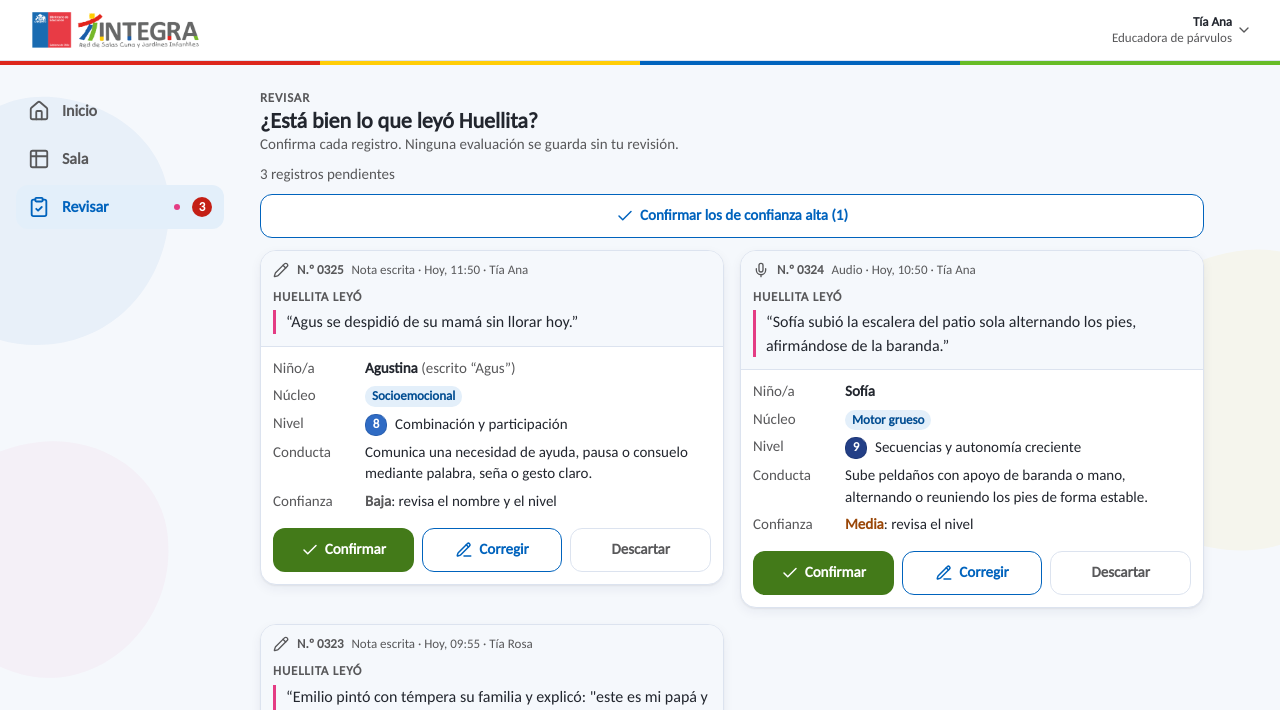
Scenario: Revisar › acepta todas las seguras de una vez
The width and height of the screenshot is (1280, 710).
What coordinates should you click on to do the following:
click the button "Confirmar los de confianza alta (1)"
I would click on:
 (732, 216)
Its box is [260,194,1204,238].
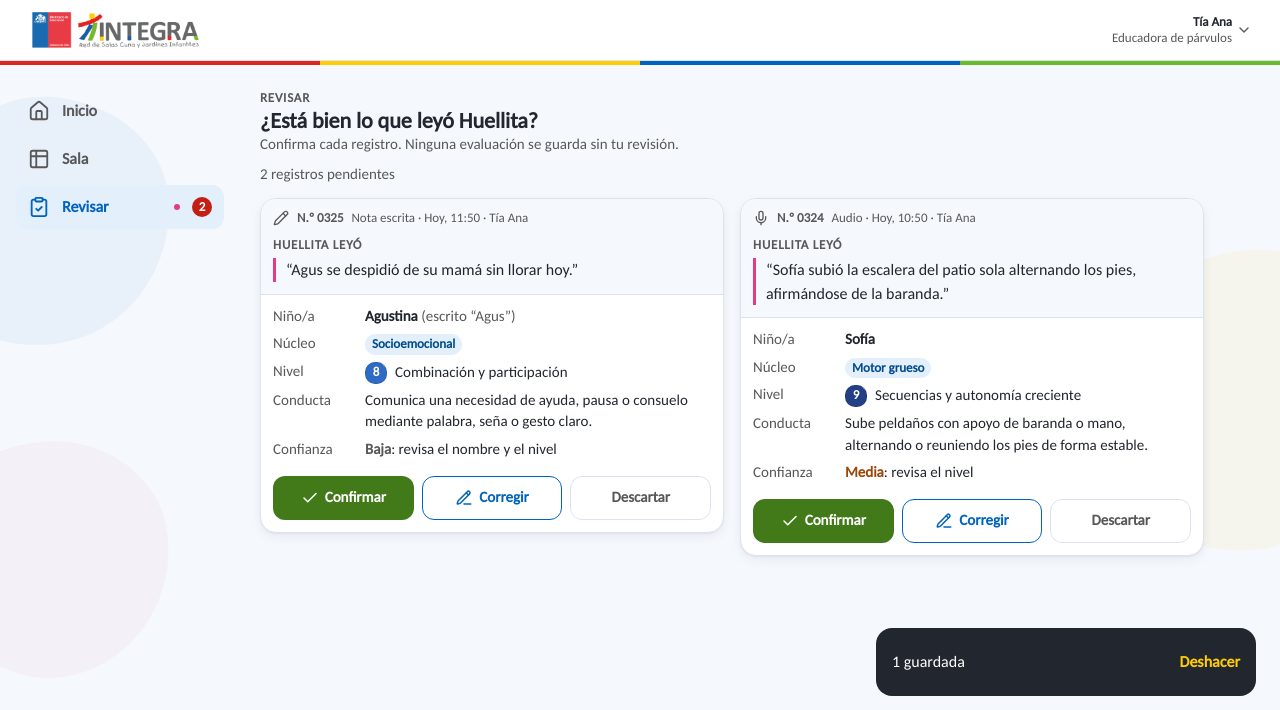
Expected: the text "Deshacer" is shown, [1180,640,1240,684]
